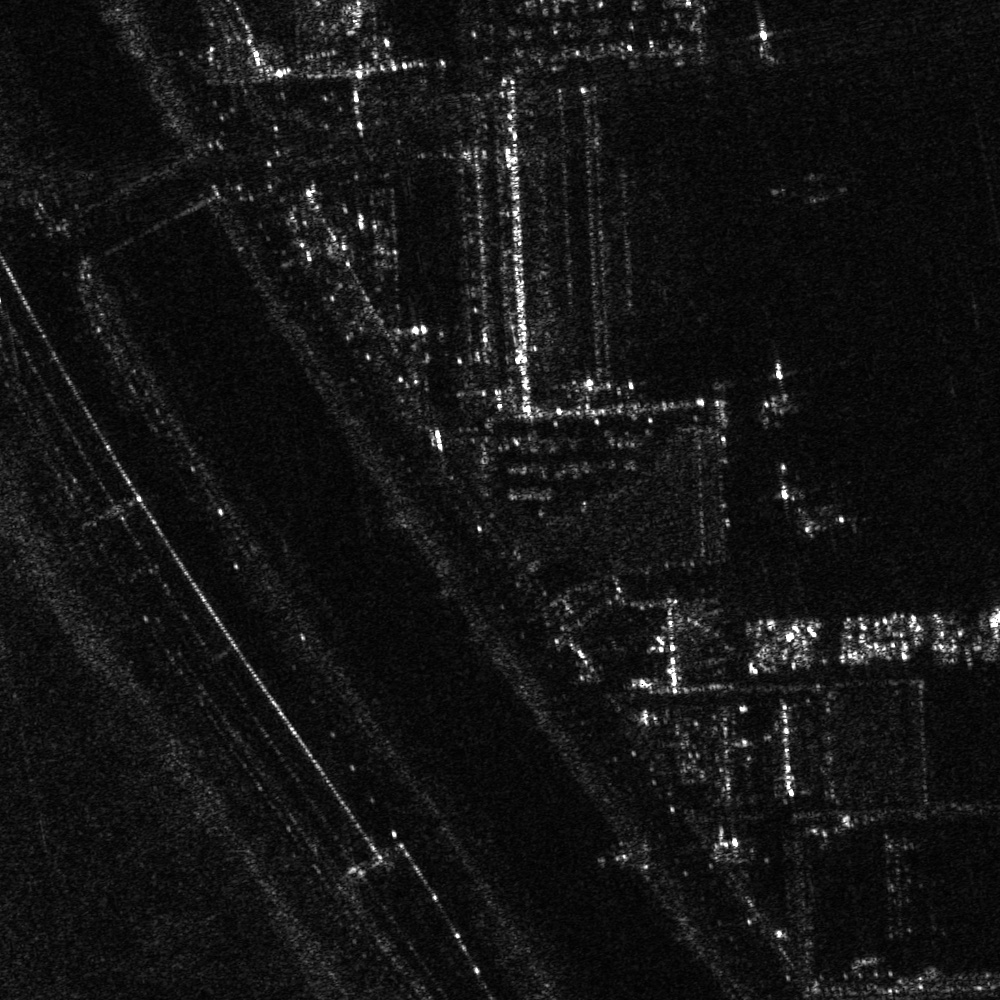A220: (781, 472, 880, 552)
